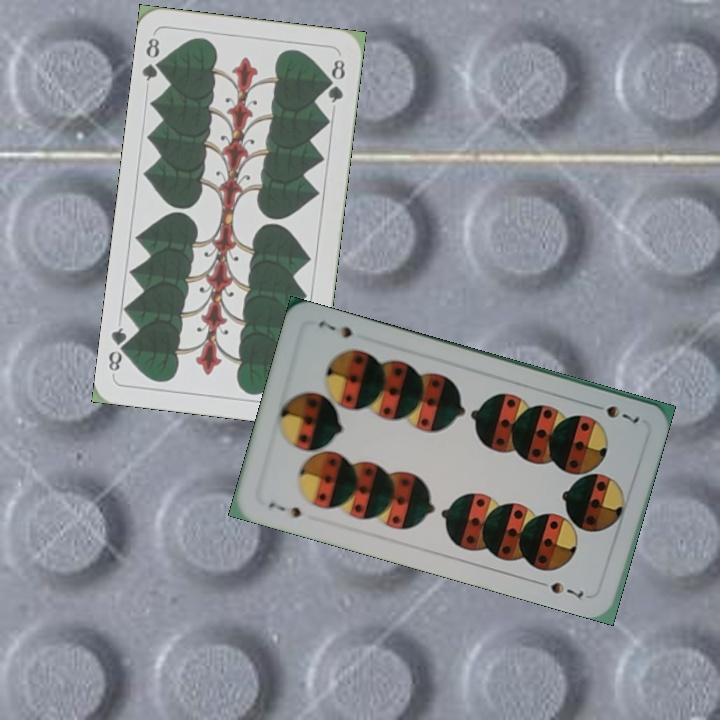G8: (138, 33, 167, 84)
S7: (587, 400, 642, 427), (264, 497, 304, 520)
